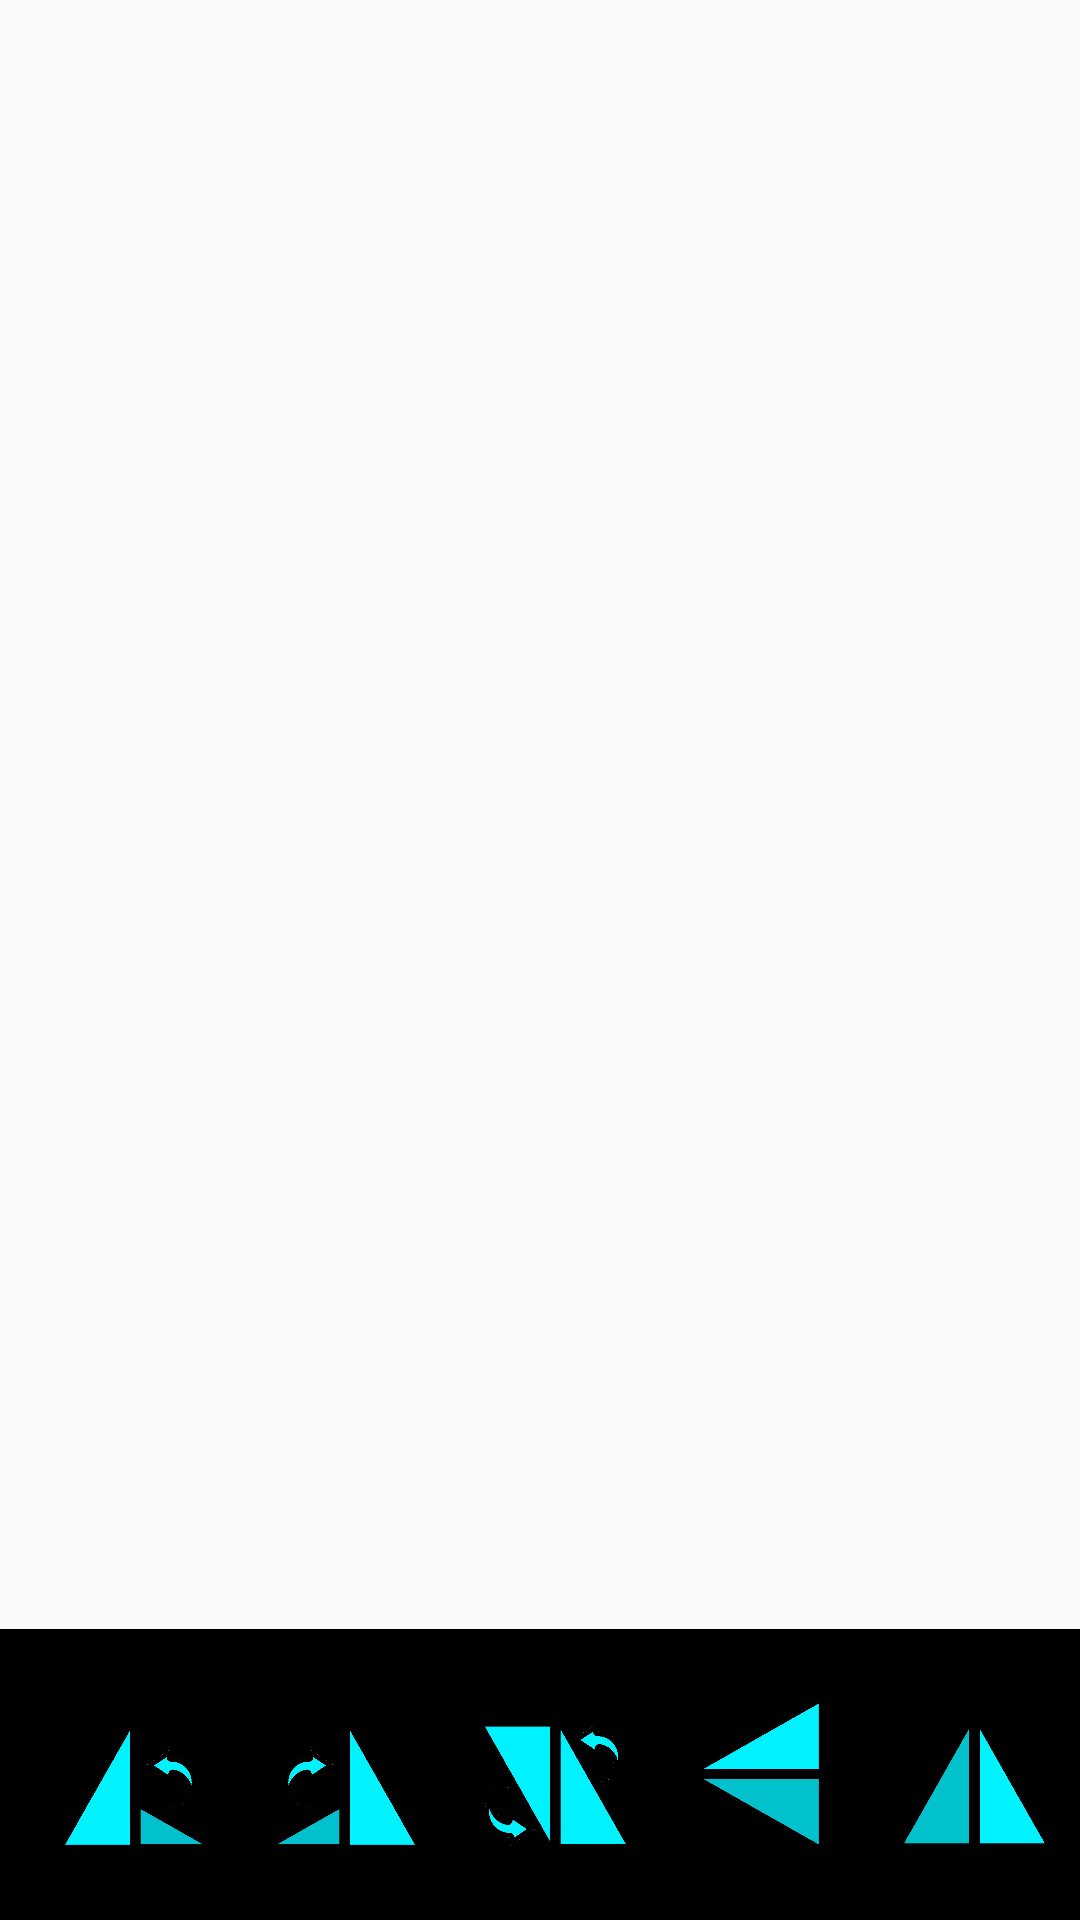

Screen size 1080w x 1920h. Icon name, then its box in pixels as (x1, y1, x2, y2):
rotate: (485, 1726, 626, 1846)
rotate horizontal: (904, 1729, 1045, 1844)
rotate left: (65, 1731, 202, 1845)
rotate right: (278, 1731, 415, 1845)
rotate vertical: (704, 1704, 819, 1844)
